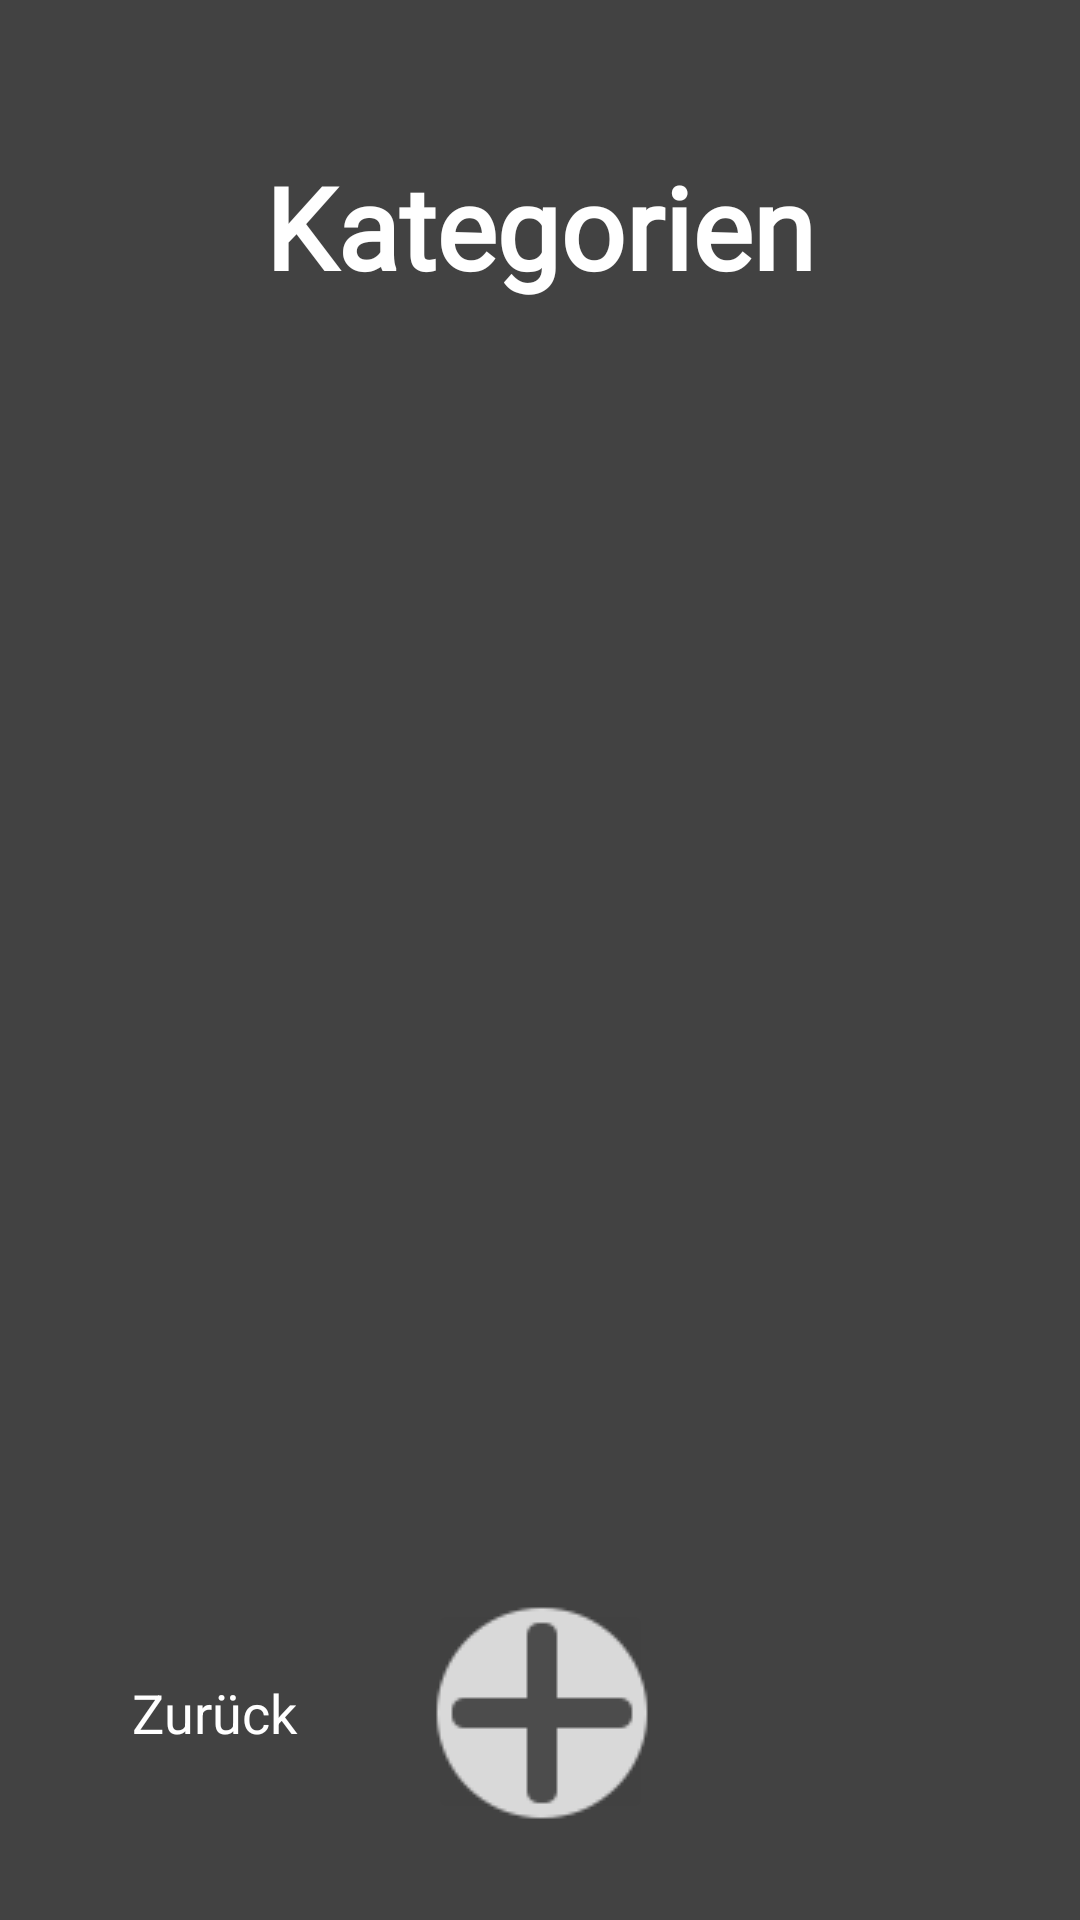

Icon click points for this 1080px x 1920px phone screenshot, format (x,y):
plus: (542,1713)
